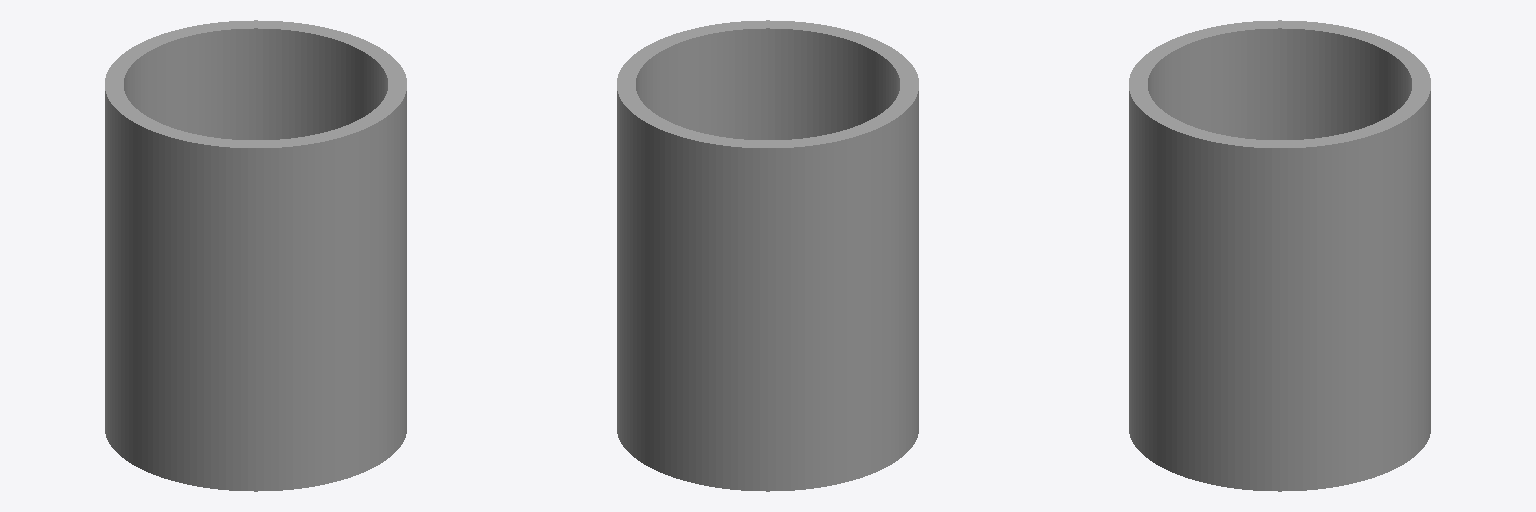
URDF robot description (object):
<?xml version="1.0"?>
<robot name="object">
  <link name="object">
    <visual>
      <origin xyz="0 0 0"/>
      <geometry>
        <mesh filename="mug2.stl" scale="1 1 1"/>
      </geometry>
      <material name="multicolor">
        <color rgba="0.7 0.7 0.7 1.0"/>
      </material>
    </visual>
    <collision>
      <origin xyz="0 0 0"/>
      <geometry>
        <mesh filename="mug2_decomp.obj" scale="1 1 1"/>
      </geometry>
    </collision>
    <inertial>
      <mass value="0.10"/>
      <inertia ixx="0.0001" ixy="0.0" ixz="0.0" iyy="0.0001" iyz="0.0" izz="0.0001"/>
    </inertial>
  </link>
</robot>

--- Facts derived from the render (not from the file) ---
3 views of the same robot in one strip: view 1: azimuth 30°, elevation 25°; view 2: azimuth 150°, elevation 25°; view 3: azimuth 270°, elevation 25° (orthographic).
Robot: object — 1 links, 0 joints (none); root link object; default pose: every joint at zero.
Visible links, largest first — view 1: object; view 2: object; view 3: object.
Boxes of the visible links, box(x1,y1,x2,y2) form: object: box(105, 20, 406, 491); object: box(617, 20, 918, 491); object: box(1129, 20, 1430, 491).
Bounding box of the posed robot: 0.08 × 0.08 × 0.1 m (x, y, z).
Meshes: 1 distinct files referenced, 1 mesh visuals loaded (1 binary STL).